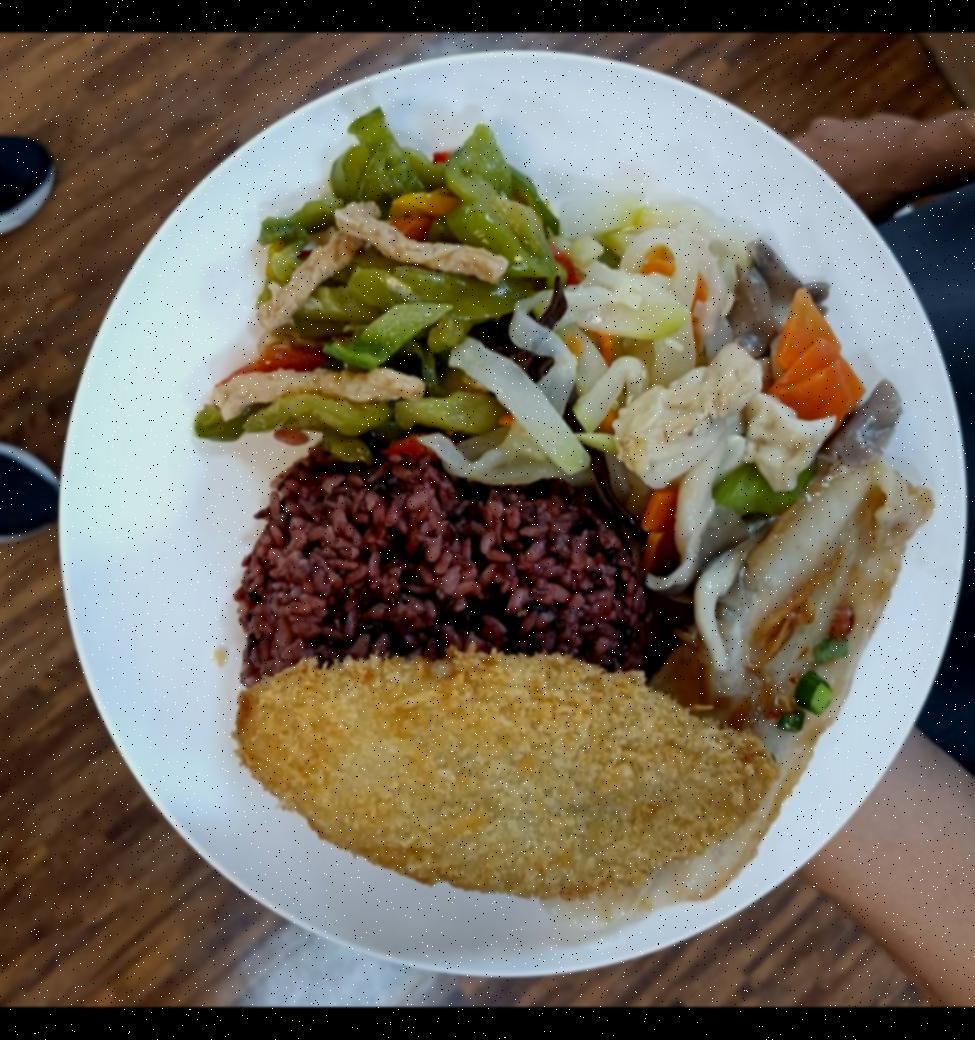fried cod steak: (219, 646, 777, 905)
plate: (47, 60, 975, 987)
purple rice: (233, 455, 655, 677)
side dish: (196, 120, 584, 469), (565, 213, 853, 573)
steamed fish fillet: (548, 458, 944, 943)
